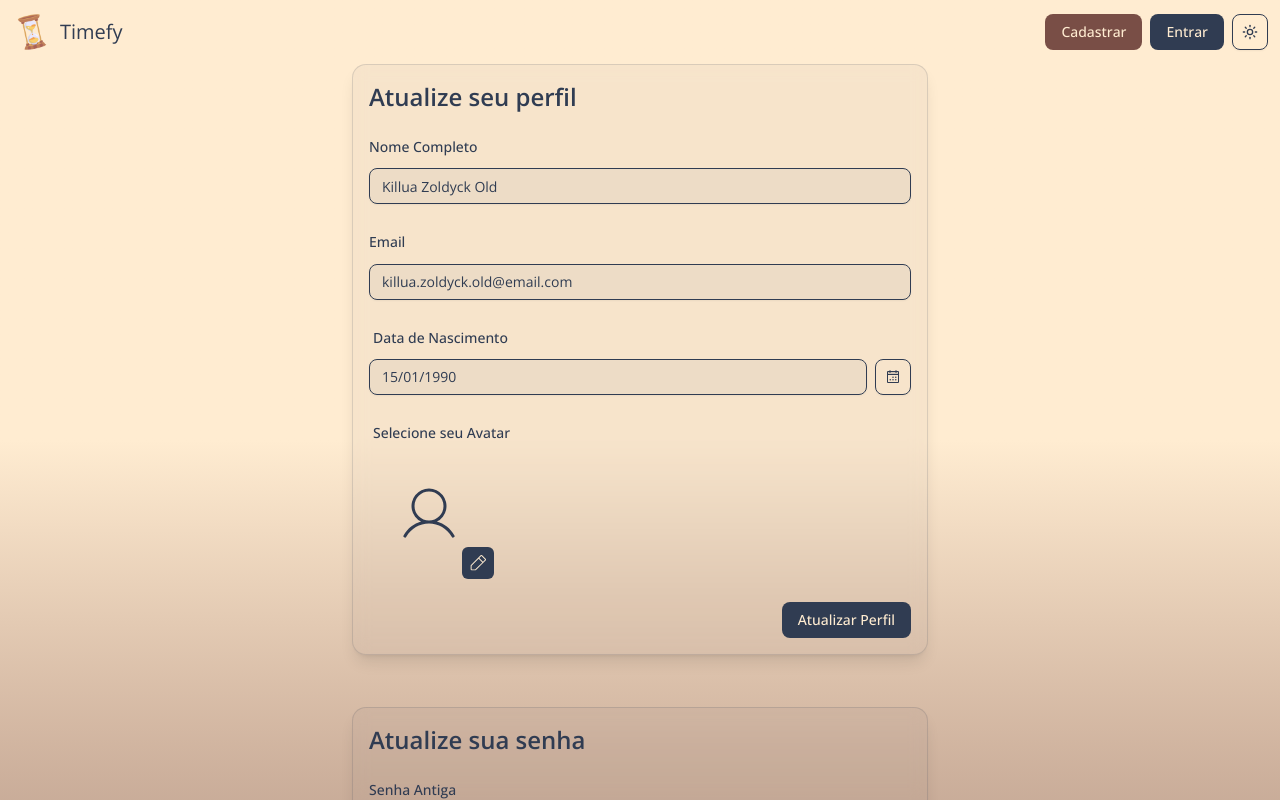
Test case: ProfilePage › Profile Update Form Validation › should show error when email is invalid
Replace the text in the field labelled "Email" with "email@invalid": (640, 282) [369,264,911,300]
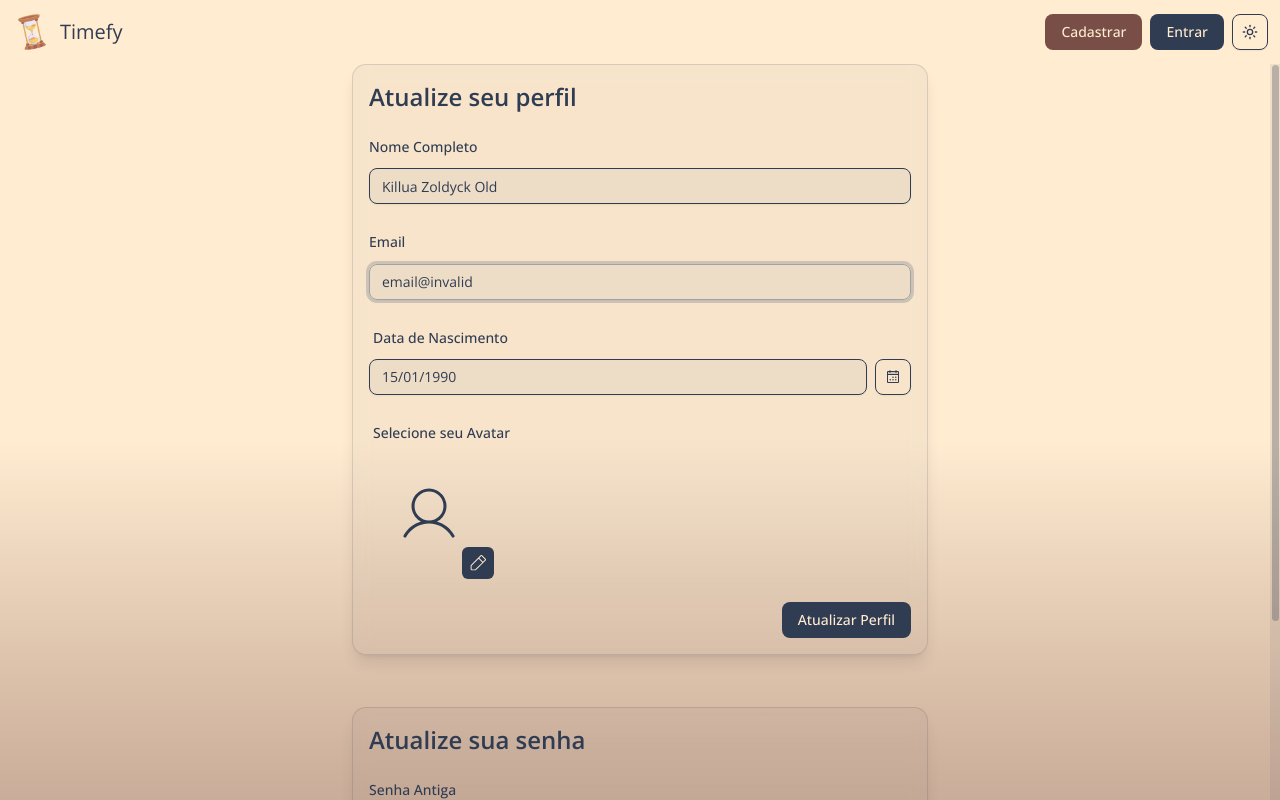
Click the button "Atualizar Perfil": (846, 620) [782,602,911,638]
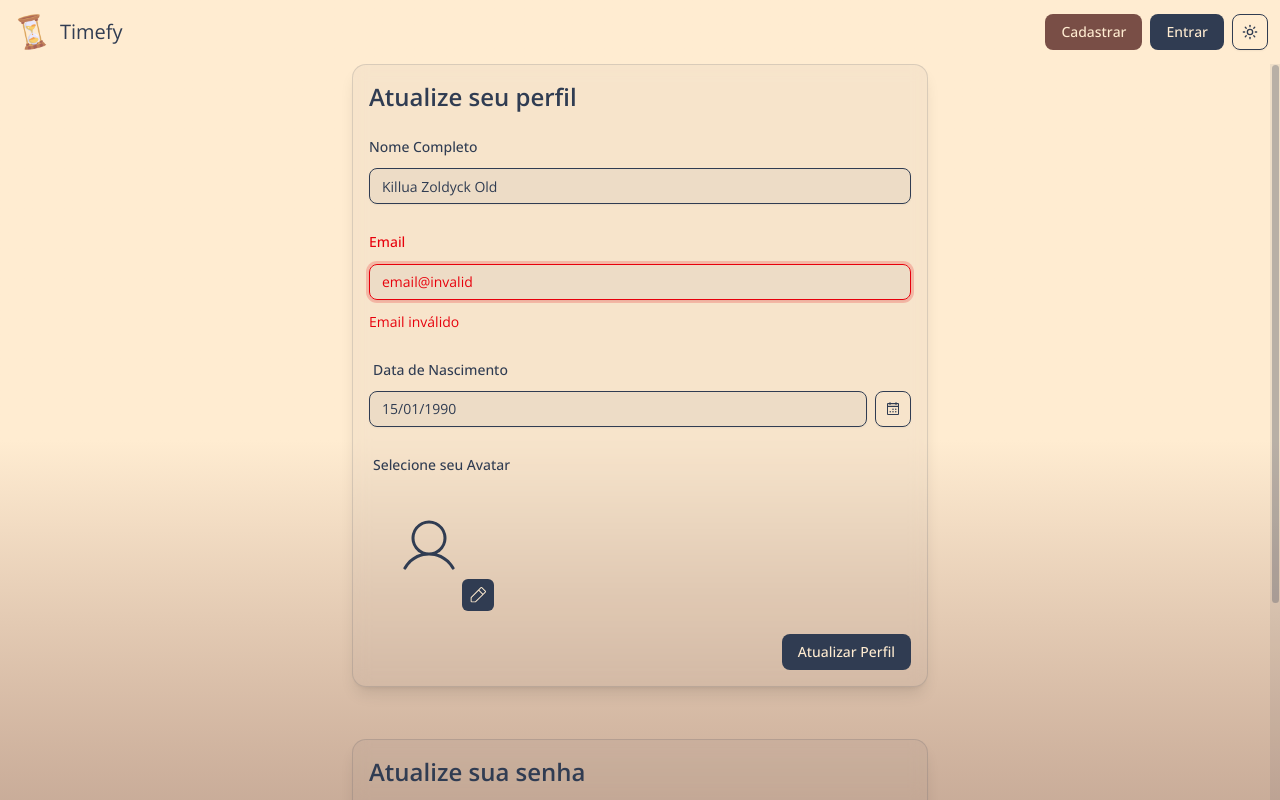
Check: the text "Email inválido" is shown, box [369,312,459,330]
